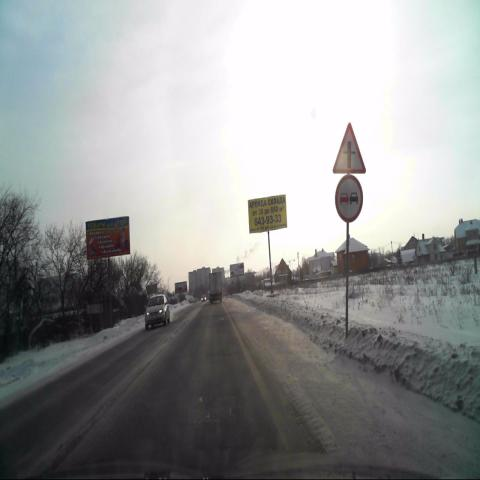2_3: (332, 121, 366, 174)
3_20: (335, 174, 363, 223)
